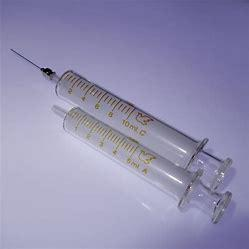Syringe: (9, 45, 234, 227)
